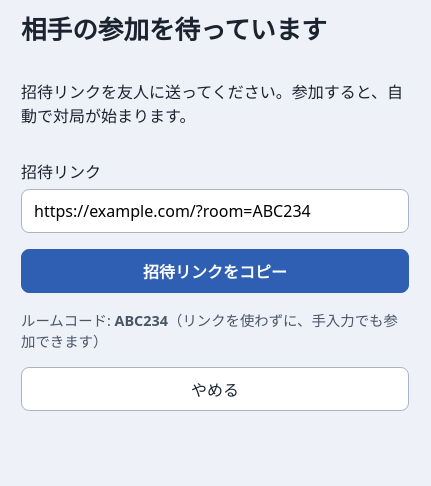
WaitingRoom › クリップボードが使えなければ、手動でコピーするよう案内する
Click the button "招待リンクをコピー" at x=215, y=271, box [21,249,409,293]
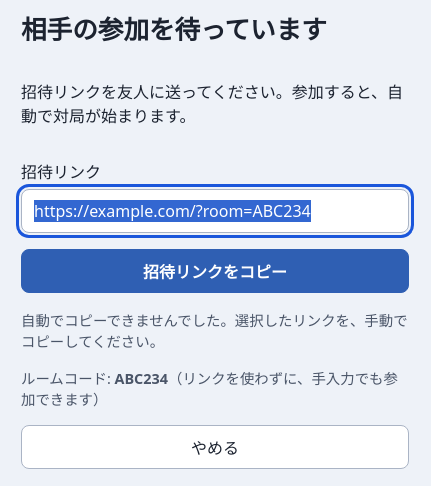
Expected: the text "自動でコピーできませんでした。選択したリンクを、手動でコピーしてください。" is shown, [21,309,409,351]
